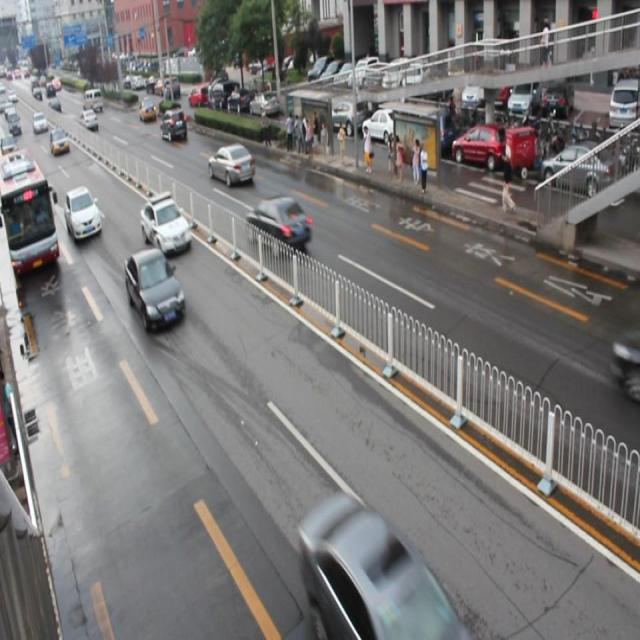car: (299, 495, 467, 640), (124, 246, 184, 331), (245, 196, 312, 254), (139, 193, 193, 255), (207, 142, 255, 186), (65, 187, 103, 240), (159, 108, 188, 142)
van: (0, 150, 60, 274)
